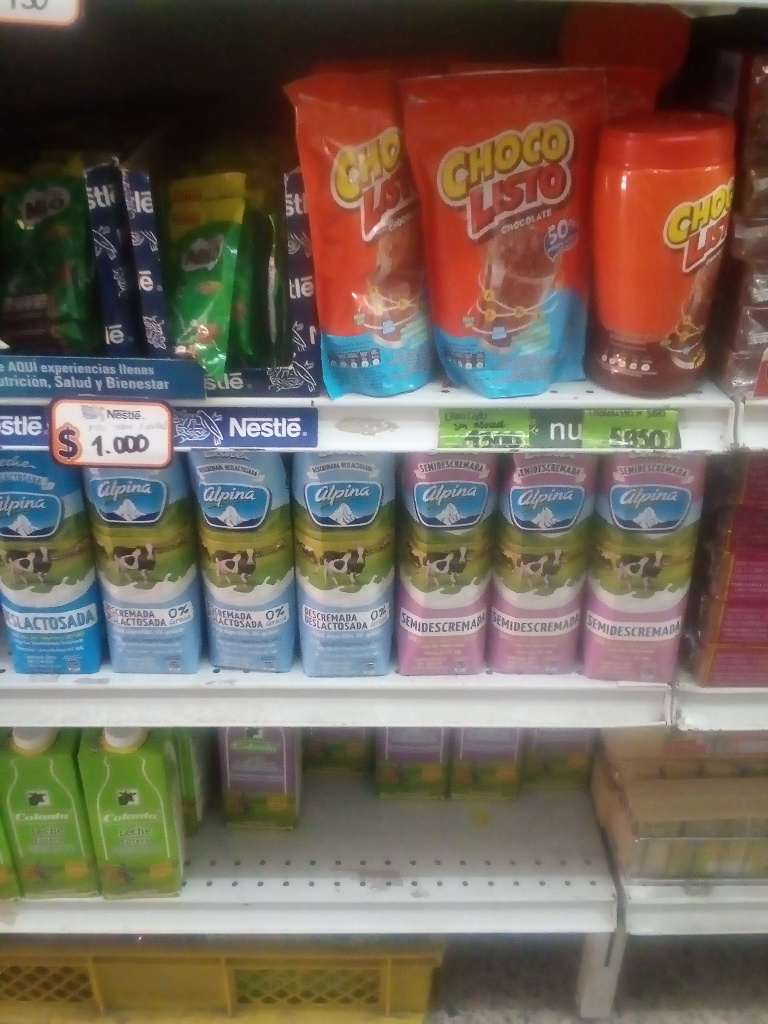COL0170104DYP20000: (404, 68, 614, 400)
